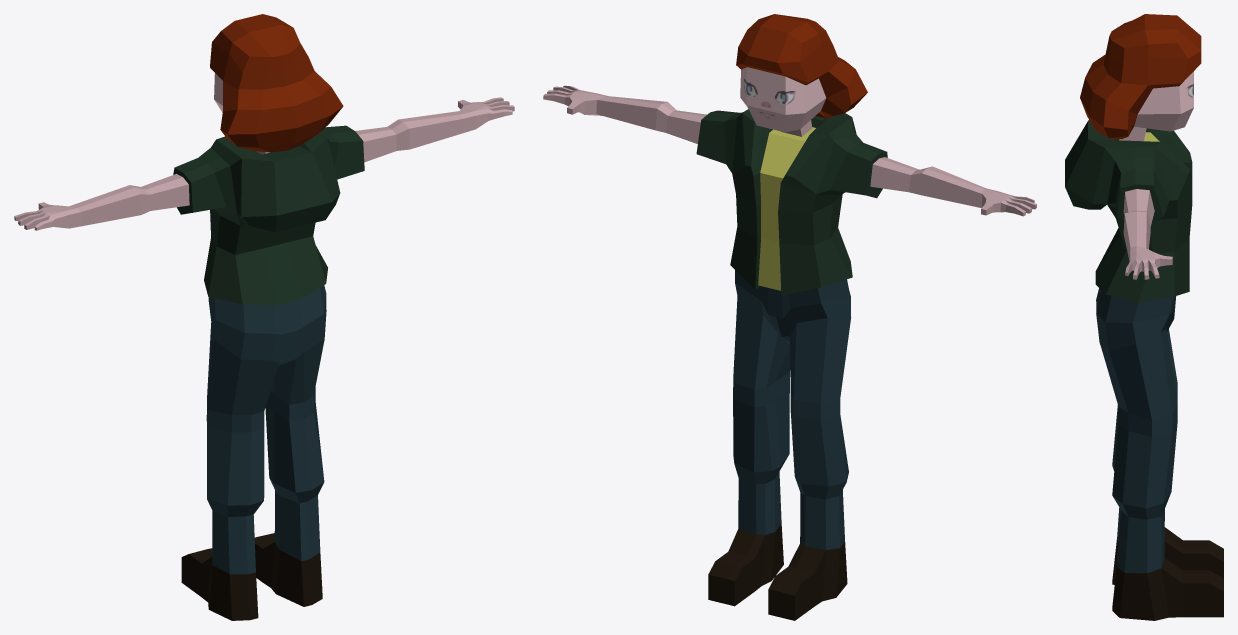
Rendered from River 1.FBX.
The picture shows the model from 3 angles, left to right: view 1: azimuth 30°, elevation 25°; view 2: azimuth 150°, elevation 25°; view 3: azimuth 270°, elevation 25°; orthographic projection.
Visible parts, largest first — view 1: tes:Box001; view 2: tes:Box001; view 3: tes:Box001.
Boxes of the visible parts, <box> form: tes:Box001: <box>14,14,514,620</box>; tes:Box001: <box>543,14,1036,620</box>; tes:Box001: <box>1065,14,1223,620</box>.
Bounding box in the file's own units: 8.11 × 9.06 × 2.27.
7 materials, 1 textured.
